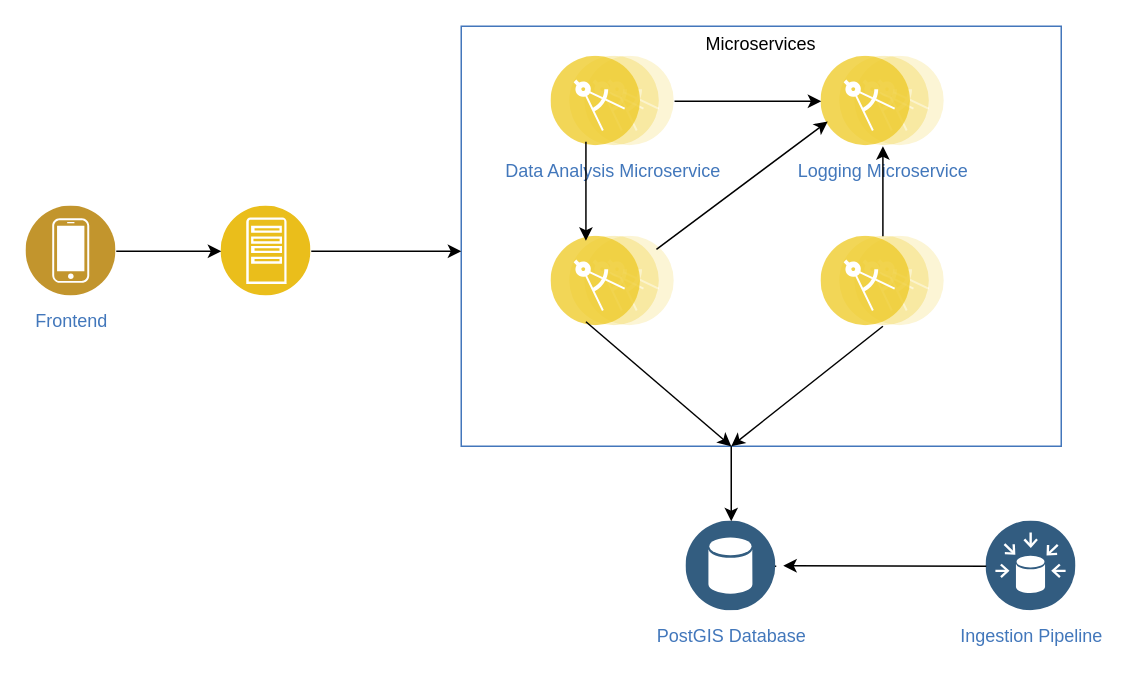
Image size: 1128x674. Some labels were removed from this diagram. Each missing label, with the centre of its shape:
Administrator Analysis Microservice: point (882, 281)
API: point (265, 251)
Data Delivery Microservice: point (612, 281)
